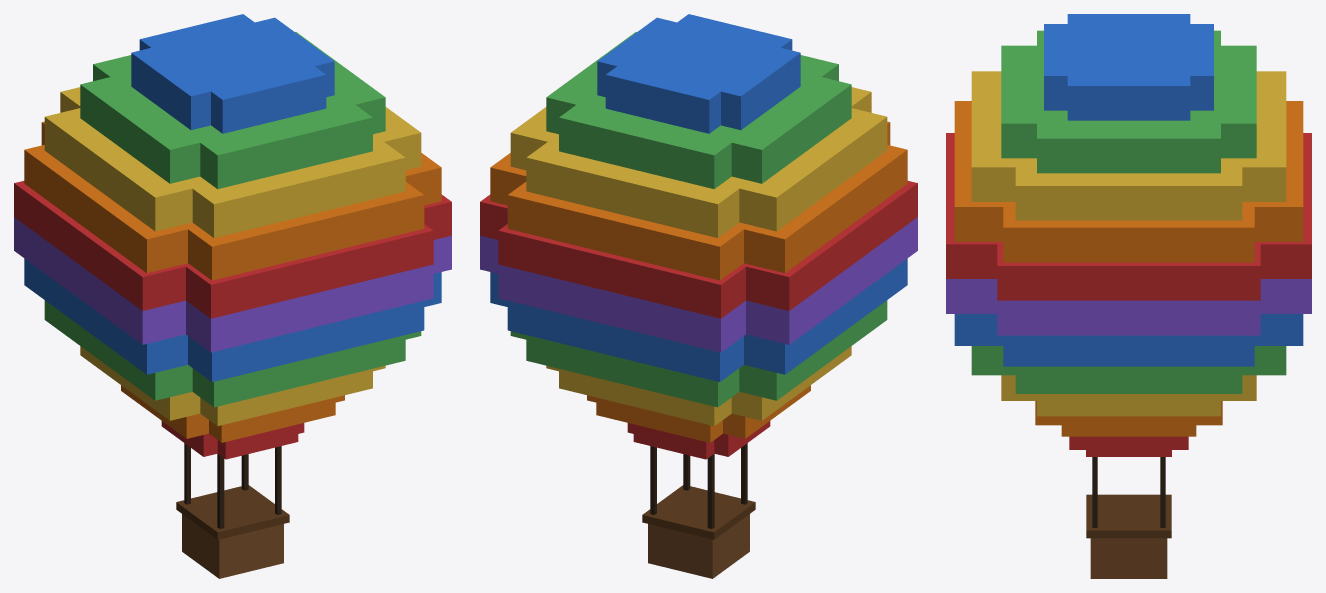
Rendered from tt-balloon-rainbow.glb.
3 renders of one model, left to right at view 1: azimuth 30°, elevation 25°; view 2: azimuth 150°, elevation 25°; view 3: azimuth 270°, elevation 25°, orthographic. The views are drawn at different scales.
Parts seen in each view (by area): view 1: box-prop; view 2: box-prop; view 3: box-prop.
Boxes of the visible parts, bbox=[...] form: box-prop: bbox=[14, 14, 451, 578]; box-prop: bbox=[480, 14, 917, 578]; box-prop: bbox=[946, 14, 1311, 578].
Bounding box in the file's own units: 4.3 × 6.65 × 4.3.
